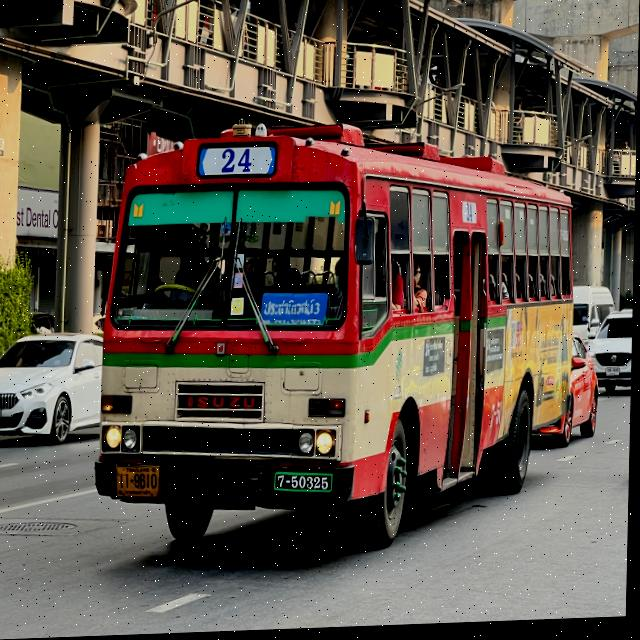BMTA-bus: (89, 108, 584, 566)
Bus Line Number: (197, 144, 280, 180)
Bus Side Number: (278, 474, 334, 497)
Destination Sign: (263, 292, 331, 332)
